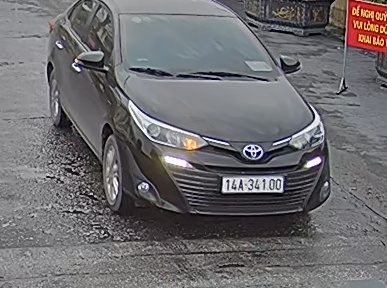vehicle plate: (220, 175, 285, 193)
